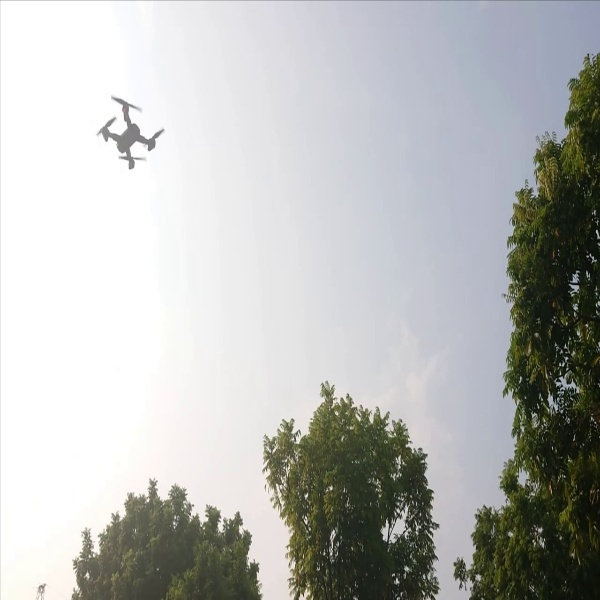drone: (91, 93, 167, 177)
